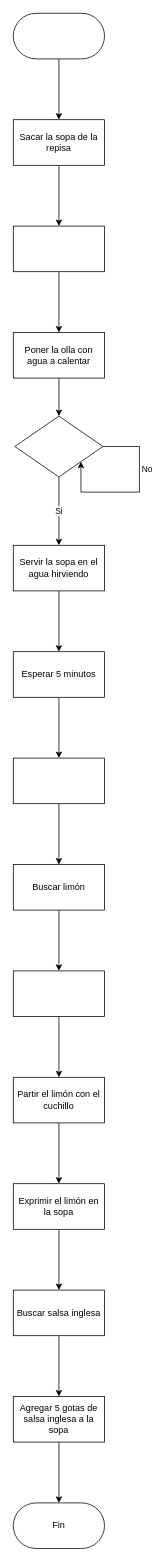
Some shapes in this 166 by 1562 pixel diagram are drawn without their labels. The centre of each missing label's shape, as x and y in pixels:
Buscar un cuchillo: the point at 58,993
Inicio: the point at 58,36
Poner agua en una olla: the point at 58,248
Servir en un plato: the point at 58,780
¿El agua está hirviendo?: the point at 58,446
